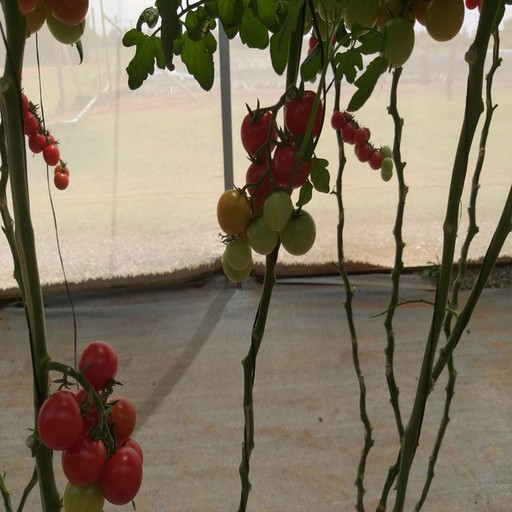green tomato bunch: (313, 1, 464, 66), (11, 1, 87, 44)
mixed tomato bunch: (216, 90, 327, 282)
red tomato bunch: (39, 343, 146, 507), (8, 94, 71, 190), (331, 110, 395, 180)
